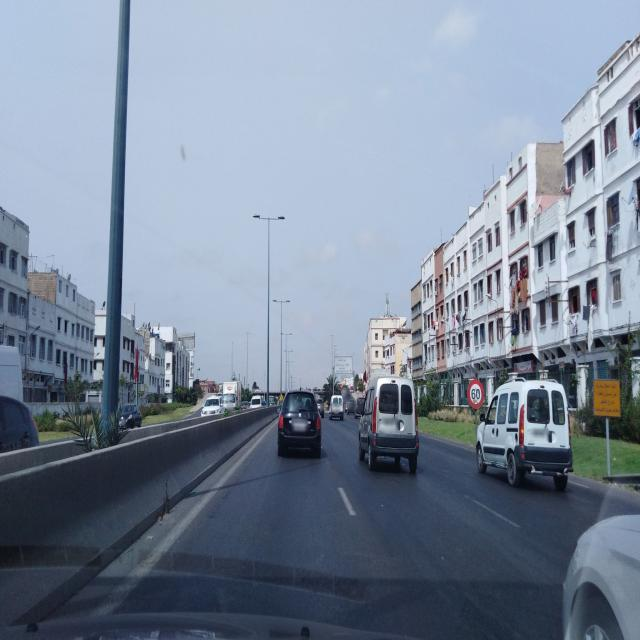car: (475, 373, 573, 491), (562, 502, 640, 636), (358, 375, 420, 473), (276, 388, 322, 457), (117, 402, 142, 428), (200, 394, 224, 418), (329, 394, 344, 420), (354, 395, 365, 418), (317, 397, 325, 417)
